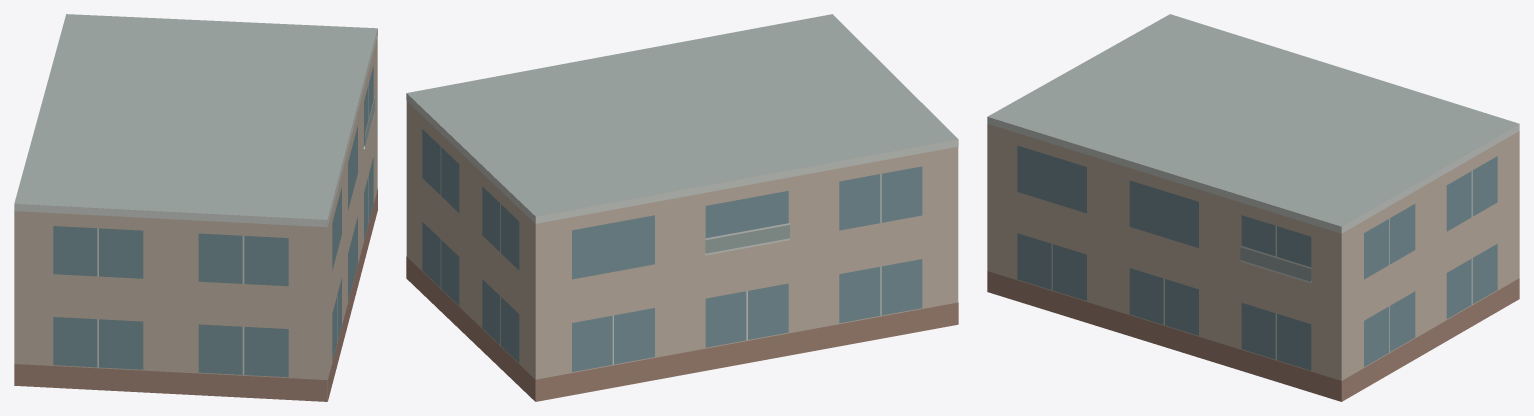
The model's file is survey-upis-32936692.glb.
The picture shows the model from 3 angles, left to right: view 1: azimuth 30°, elevation 25°; view 2: azimuth 150°, elevation 25°; view 3: azimuth 270°, elevation 25°; orthographic projection. The views are drawn at different scales.
Visible parts, largest first — view 1: survey-upis-32936692.tmp; view 2: survey-upis-32936692.tmp; view 3: survey-upis-32936692.tmp.
Part boxes in pixels (x1,y1,x2,y2): survey-upis-32936692.tmp: (14,14,377,401); survey-upis-32936692.tmp: (406,14,958,401); survey-upis-32936692.tmp: (987,14,1519,401).
Bounding box in the file's own units: 15.89 × 6.1 × 16.81.
